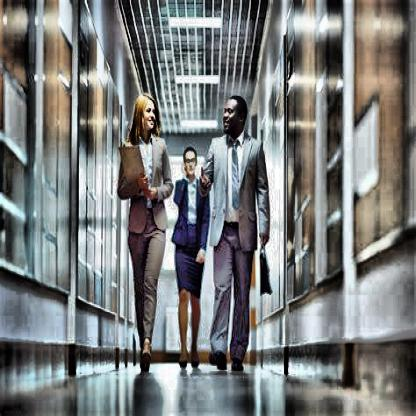not_wear: (220, 92, 246, 141), (133, 93, 159, 139), (182, 146, 198, 180)
